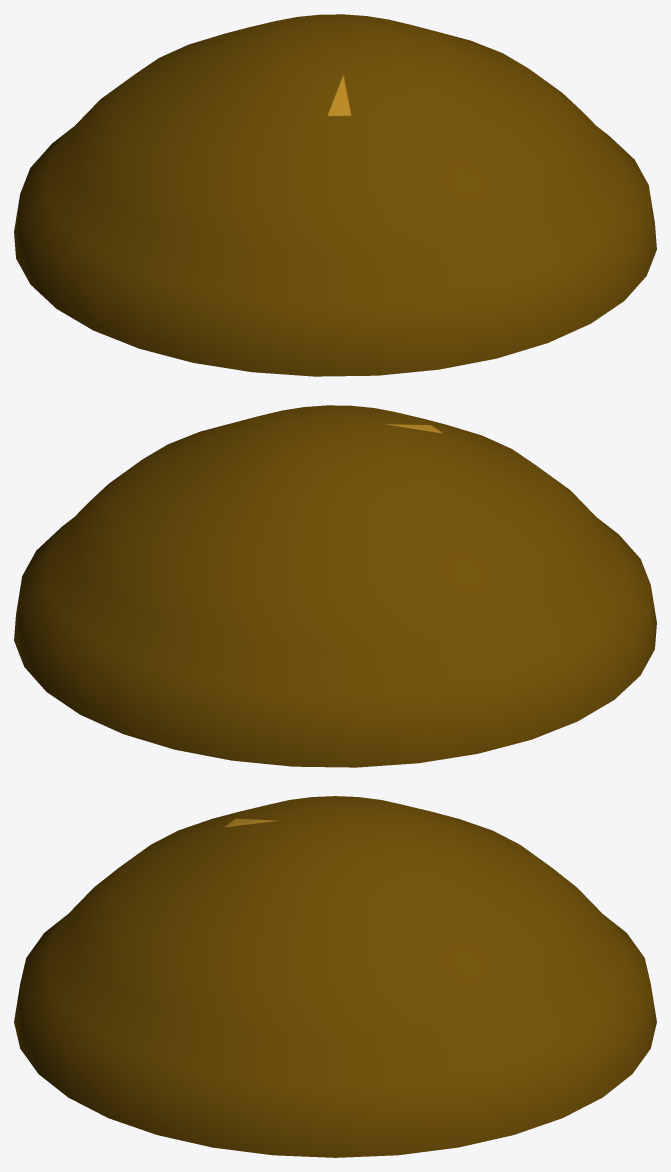
The model's file is topbun.FBX.
3 views of the same model, one above another, from view 1: azimuth 30°, elevation 25°; view 2: azimuth 150°, elevation 25°; view 3: azimuth 270°, elevation 25° (orthographic).
Visible parts, largest first — view 1: Sphere001; view 2: Sphere001; view 3: Sphere001.
Part boxes in pixels (<box>): Sphere001: <box>14,14,656,376</box>; Sphere001: <box>14,405,656,767</box>; Sphere001: <box>14,796,656,1157</box>.
Bounding box in the file's own units: 63.03 × 21.29 × 63.03.
Materials: 1 (1 with a texture image).
